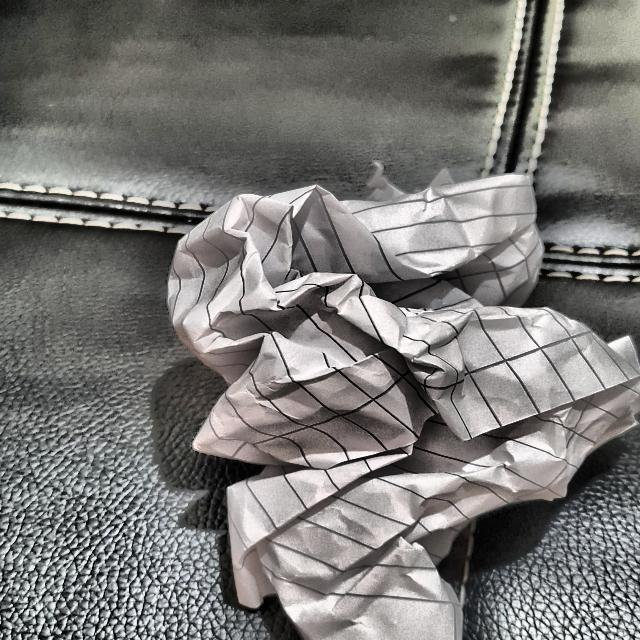paper: (159, 176, 640, 640)
